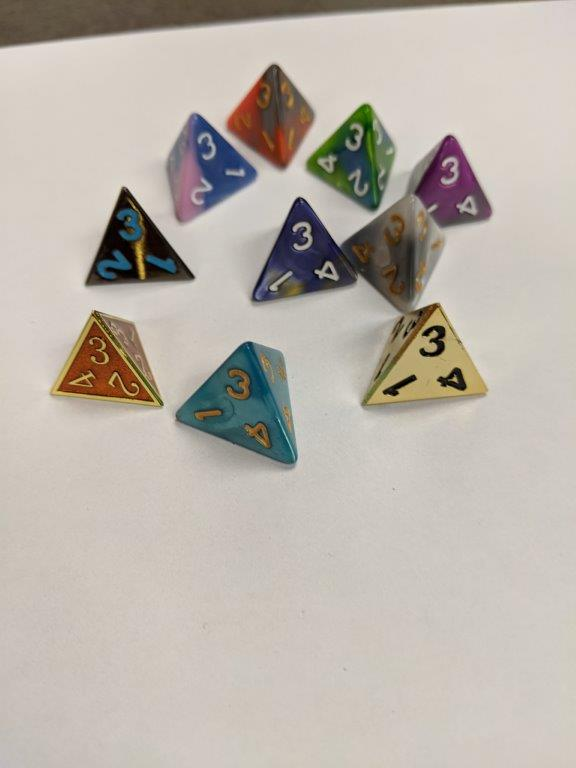d4-3: (174, 342, 300, 470), (358, 303, 491, 405), (334, 191, 445, 313), (248, 197, 361, 309), (47, 305, 164, 408), (84, 186, 199, 288), (162, 113, 260, 223), (306, 95, 397, 213), (226, 62, 317, 173), (407, 131, 494, 229)
